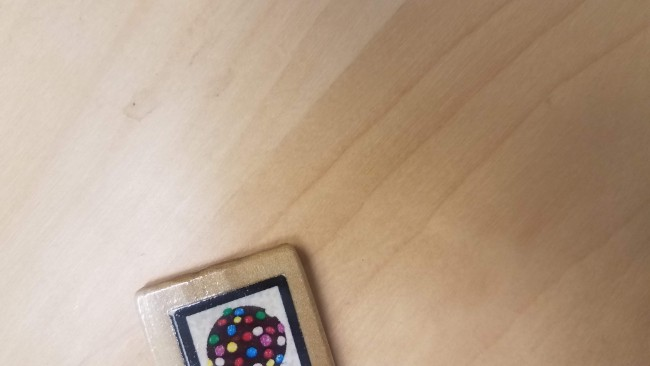cookie: (157, 275, 324, 366)
